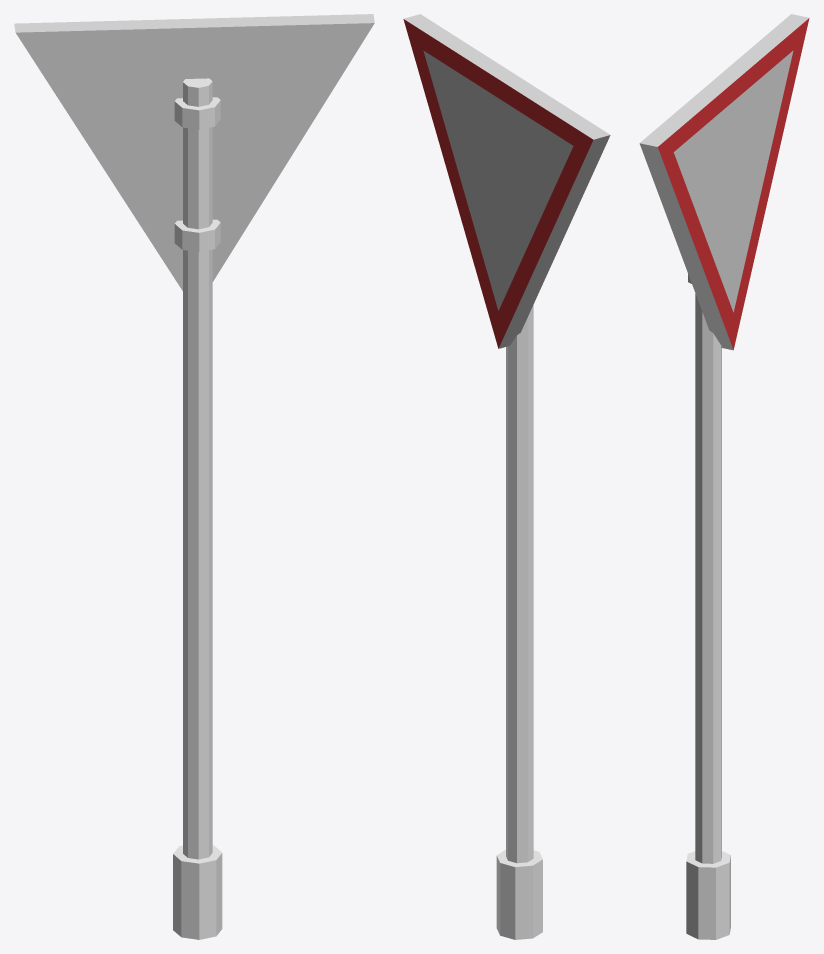
Rendered from Sign12.fbx.
3 renders of one model, left to right at view 1: azimuth 30°, elevation 25°; view 2: azimuth 150°, elevation 25°; view 3: azimuth 270°, elevation 25°, orthographic. The views are drawn at different scales.
Visible parts, largest first — view 1: Sign2; view 2: Sign2; view 3: Sign2.
Part boxes in pixels (<box>): Sign2: <box>14,14,374,939</box>; Sign2: <box>403,14,610,939</box>; Sign2: <box>639,14,809,939</box>.
Bounding box in the file's own units: 65.86 × 197 × 35.56.
